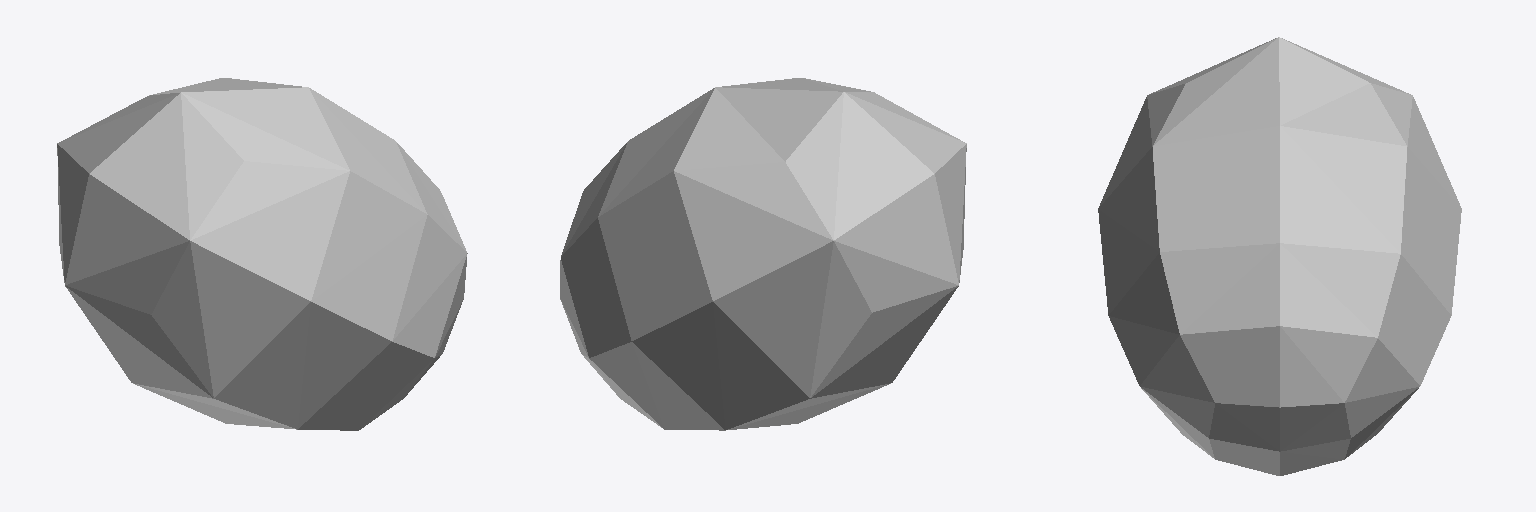
Rendered from left_hand.obj.
The picture shows the model from 3 angles: view 1: azimuth 30°, elevation 25°; view 2: azimuth 150°, elevation 25°; view 3: azimuth 270°, elevation 25°; orthographic projection.
Visible parts, largest first — view 1: Object_2.002; view 2: Object_2.002; view 3: Object_2.002.
Boxes of the visible parts, <box> form: Object_2.002: <box>57,78,467,430</box>; Object_2.002: <box>560,78,966,430</box>; Object_2.002: <box>1098,37,1461,475</box>.
Bounding box in the file's own units: 0.4595 × 0.4187 × 0.3786.